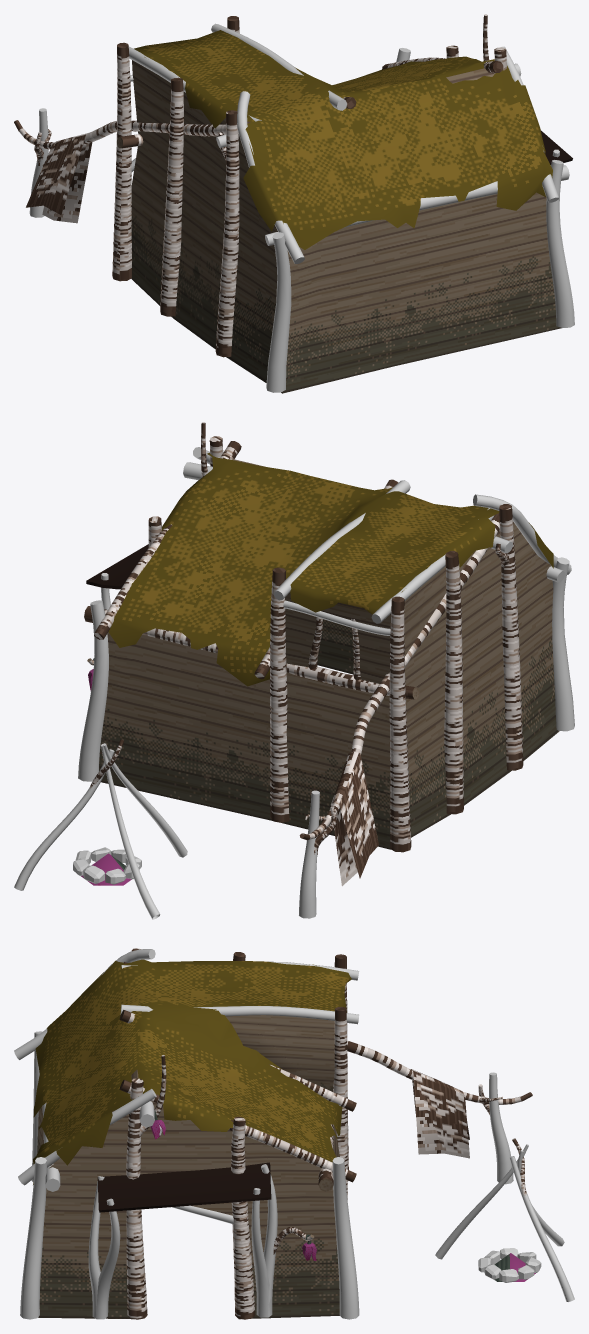
The model's file is House.obj.
3 renders of one model, top to bottom at view 1: azimuth 30°, elevation 25°; view 2: azimuth 150°, elevation 25°; view 3: azimuth 270°, elevation 25°, orthographic. The views are drawn at different scales.
Visible parts, largest first — view 1: murs_, mousse, BézierCurve.012, BézierCurve.011, Plane, BézierCurve.004, BézierCurve.002, BézierCurve.001, BézierCurve.016, BézierCurve.022, BézierCurve.020, BézierCurve.005 (+3 smaller); view 2: murs_, mousse, BézierCurve.012, BézierCurve.004, BézierCurve.015, BézierCurve.011, Plane, BézierCurve.003, BézierCurve.016, BézierCurve.002, BézierCurve.019, BézierCurve.024 (+9 smaller); view 3: mousse, murs_, toit_porte, Plane, 5, 6, BézierCurve.003, BézierCurve.001, BézierCurve.015, BézierCurve.005, 1, 4 (+11 smaller).
Part boxes in pixels (x1,y1,x2,y2): murs_: (131,60,561,393); mousse: (134,30,552,249); BézierCurve.012: (160,77,183,316); BézierCurve.011: (215,110,239,357); Plane: (26,133,92,223); BézierCurve.004: (112,42,131,281); BézierCurve.002: (266,232,291,392); BézierCurve.001: (546,160,574,327); BézierCurve.016: (14,120,250,149); BézierCurve.022: (237,91,304,263); BézierCurve.020: (265,165,569,245); BézierCurve.005: (211,23,347,110); murs_: (99,520,559,849); mousse: (108,452,553,686); BézierCurve.012: (444,551,463,814); BézierCurve.004: (389,596,411,852); BézierCurve.015: (270,567,289,822); BézierCurve.011: (499,504,523,770); Plane: (331,752,378,886); BézierCurve.003: (78,600,108,781); BézierCurve.016: (299,513,499,840); BézierCurve.002: (552,557,574,731); BézierCurve.019: (84,606,419,699); BézierCurve.024: (299,790,319,918); mousse: (33,959,351,1184); murs_: (37,1015,339,1319); toit_porte: (97,1162,271,1212); Plane: (411,1069,469,1158); 5: (126,1078,147,1319); 6: (231,1116,255,1319); BézierCurve.003: (332,1157,359,1319); BézierCurve.001: (20,1157,46,1319); BézierCurve.015: (333,1006,347,1199); BézierCurve.005: (120,1004,359,1024); 1: (251,1188,272,1317); 4: (92,1198,120,1319).
Size of the model in its own units: 7.38 by 5.4 by 10.32.
